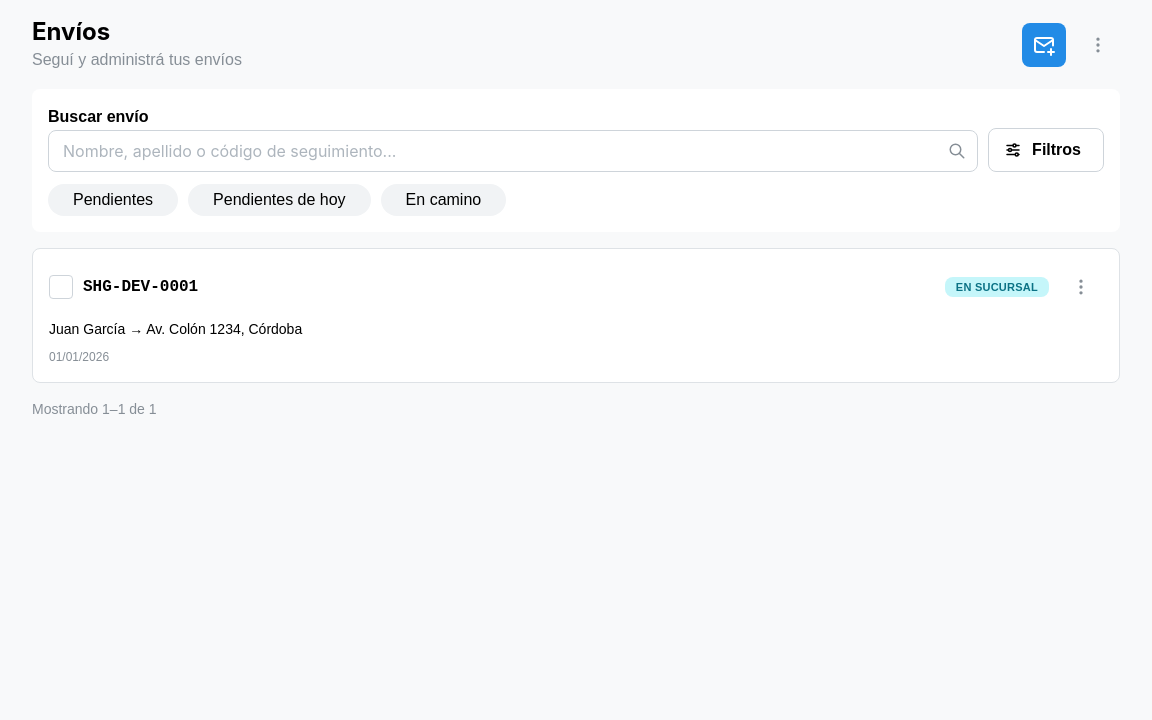
ListaEnvios en mobile › los filtros secundarios van en la hoja "Filtros" y el buscador queda afuera
The width and height of the screenshot is (1152, 720).
Check: the element with test id "list-card" is shown, box [32, 248, 1120, 383]
Check: the field labelled "Buscar envío" is shown, box [48, 130, 978, 172]
Click the button "Filtros" at x=1046, y=150, box [988, 128, 1104, 172]
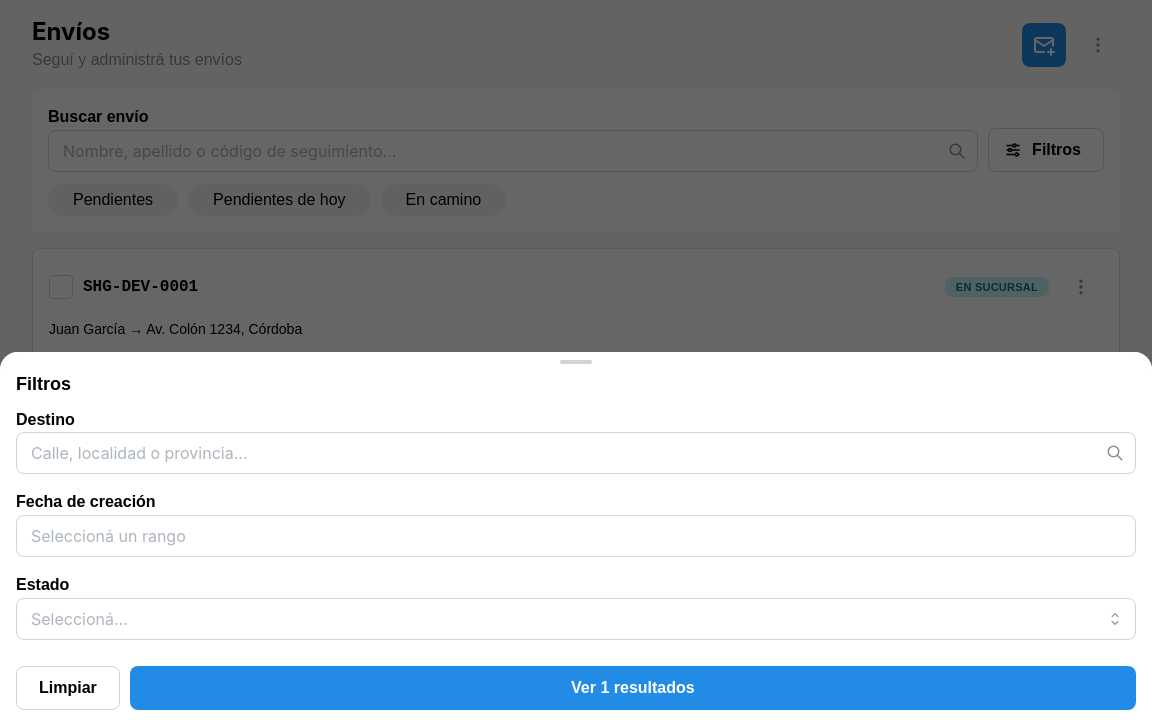
Check: the field labelled "Destino" is shown, box [16, 432, 1136, 474]
Check: the button "Ver 1 resultados" is shown, box [130, 666, 1136, 710]
